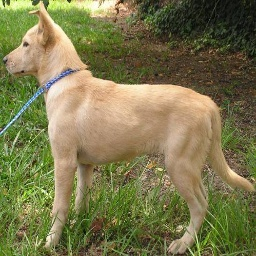dog: (5, 9, 249, 242)
